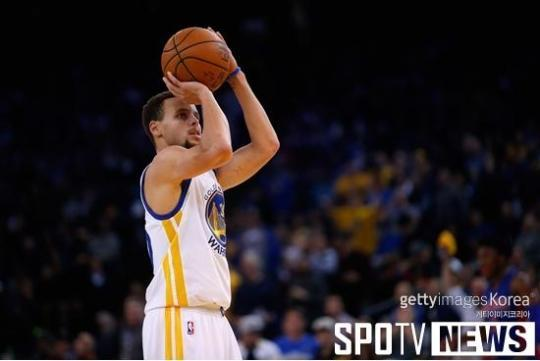ball: (152, 23, 236, 107)
shoot: (119, 16, 277, 361)
